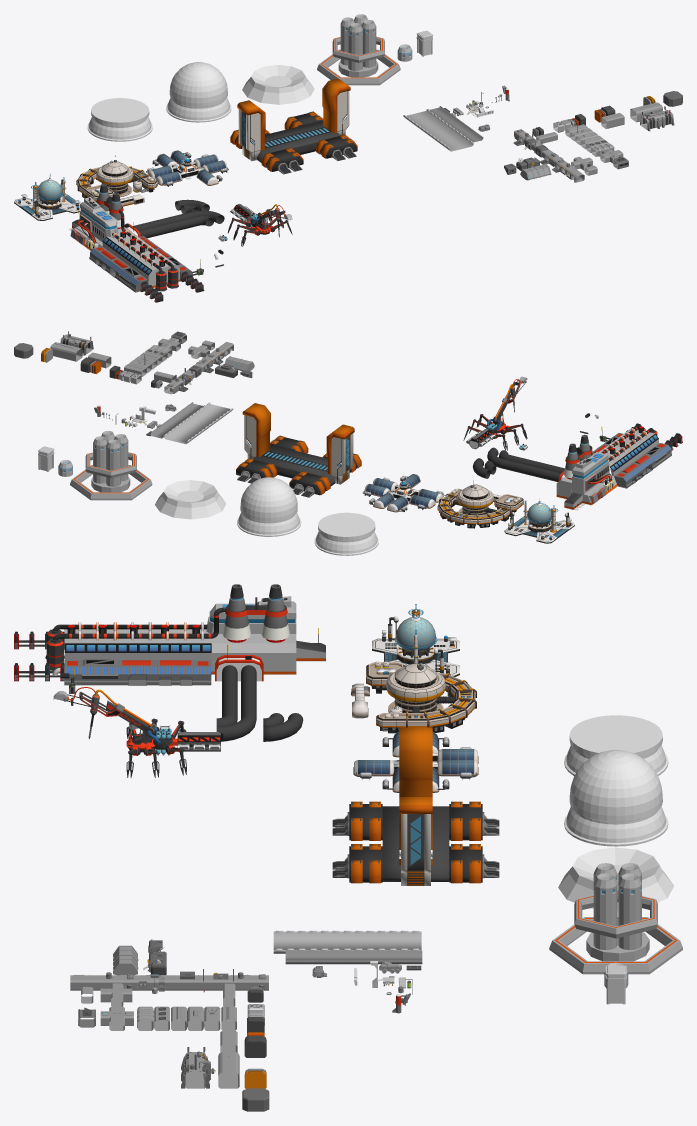
File: Buildings.fbx
3 renders of one model, top to bottom at view 1: azimuth 30°, elevation 25°; view 2: azimuth 150°, elevation 25°; view 3: azimuth 270°, elevation 25°, orthographic. The views are drawn at different scales.
Parts seen in each view (by area): view 1: Металлозавод, Cube, Structure_001, Structure_003, Structure_004, Laboratory, Structure_002, Agricultural.001, Research_Center, Бур-Паук, Bridge_part_1, HugeTubeModularStraight (+1 smaller); view 2: Cube, Металлозавод, Structure_001, Structure_003, Laboratory, Structure_004, Structure_002, Agricultural.001, Research_Center, Бур-Паук, Bridge_part_1, HugeTubeModularStraight (+3 smaller); view 3: Металлозавод, Cube, Structure_001, Structure_003, Laboratory, Бур-Паук, Structure_004, Research_Center, Structure_002, Bridge_part_1, Agricultural.001, Bridge_part_2 (+5 smaller).
Boxes of the visible parts, <box> form: Металлозавод: <box>68,183,204,302</box>; Cube: <box>230,78,357,174</box>; Structure_001: <box>317,14,400,85</box>; Structure_003: <box>166,62,231,122</box>; Structure_004: <box>87,98,152,141</box>; Laboratory: <box>76,155,157,206</box>; Structure_002: <box>242,65,314,104</box>; Agricultural.001: <box>146,150,228,186</box>; Research_Center: <box>14,174,80,220</box>; Бур-Паук: <box>227,203,292,246</box>; Bridge_part_1: <box>403,109,473,151</box>; HugeTubeModularStraight: <box>133,212,200,238</box>; Cube: <box>236,403,361,497</box>; Металлозавод: <box>556,423,682,510</box>; Structure_001: <box>70,431,152,500</box>; Structure_003: <box>237,477,301,536</box>; Laboratory: <box>437,480,524,528</box>; Structure_004: <box>314,512,378,555</box>; Structure_002: <box>155,480,226,519</box>; Agricultural.001: <box>362,474,444,512</box>; Research_Center: <box>504,498,574,543</box>; Бур-Паук: <box>463,376,527,450</box>; Bridge_part_1: <box>164,402,233,444</box>; HugeTubeModularStraight: <box>500,455,564,481</box>; Металлозавод: <box>14,584,326,693</box>; Cube: <box>332,727,499,885</box>; Structure_001: <box>549,863,682,974</box>; Structure_003: <box>564,749,668,846</box>; Laboratory: <box>351,656,476,733</box>; Бур-Паук: <box>53,687,223,777</box>; Structure_004: <box>564,715,668,775</box>; Research_Center: <box>372,604,459,676</box>; Structure_002: <box>558,847,673,910</box>; Bridge_part_1: <box>273,930,421,953</box>; Agricultural.001: <box>353,731,478,792</box>; Bridge_part_2: <box>285,950,422,964</box>.
Size of the model in its own units: 66936 by 5630 by 40085.
